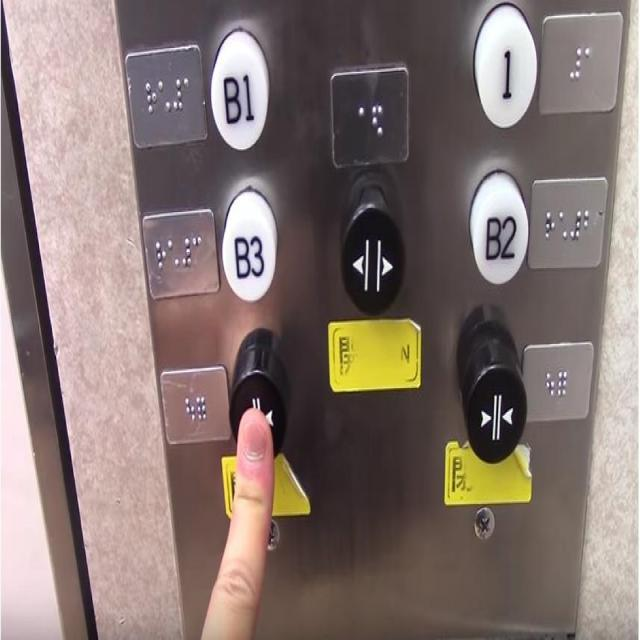1: (473, 2, 537, 126)
B1: (208, 25, 268, 148)
B2: (467, 169, 528, 284)
B3: (222, 188, 278, 301)
close: (461, 344, 527, 471)
open: (340, 185, 405, 314)
